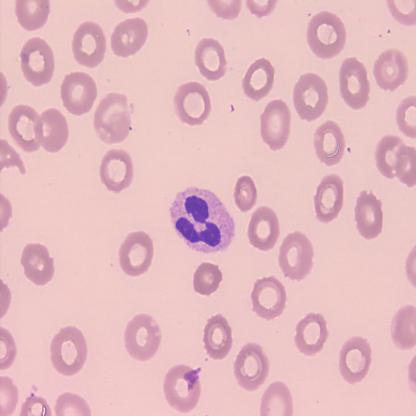Segmented neutrophil: (166, 183, 236, 255)
